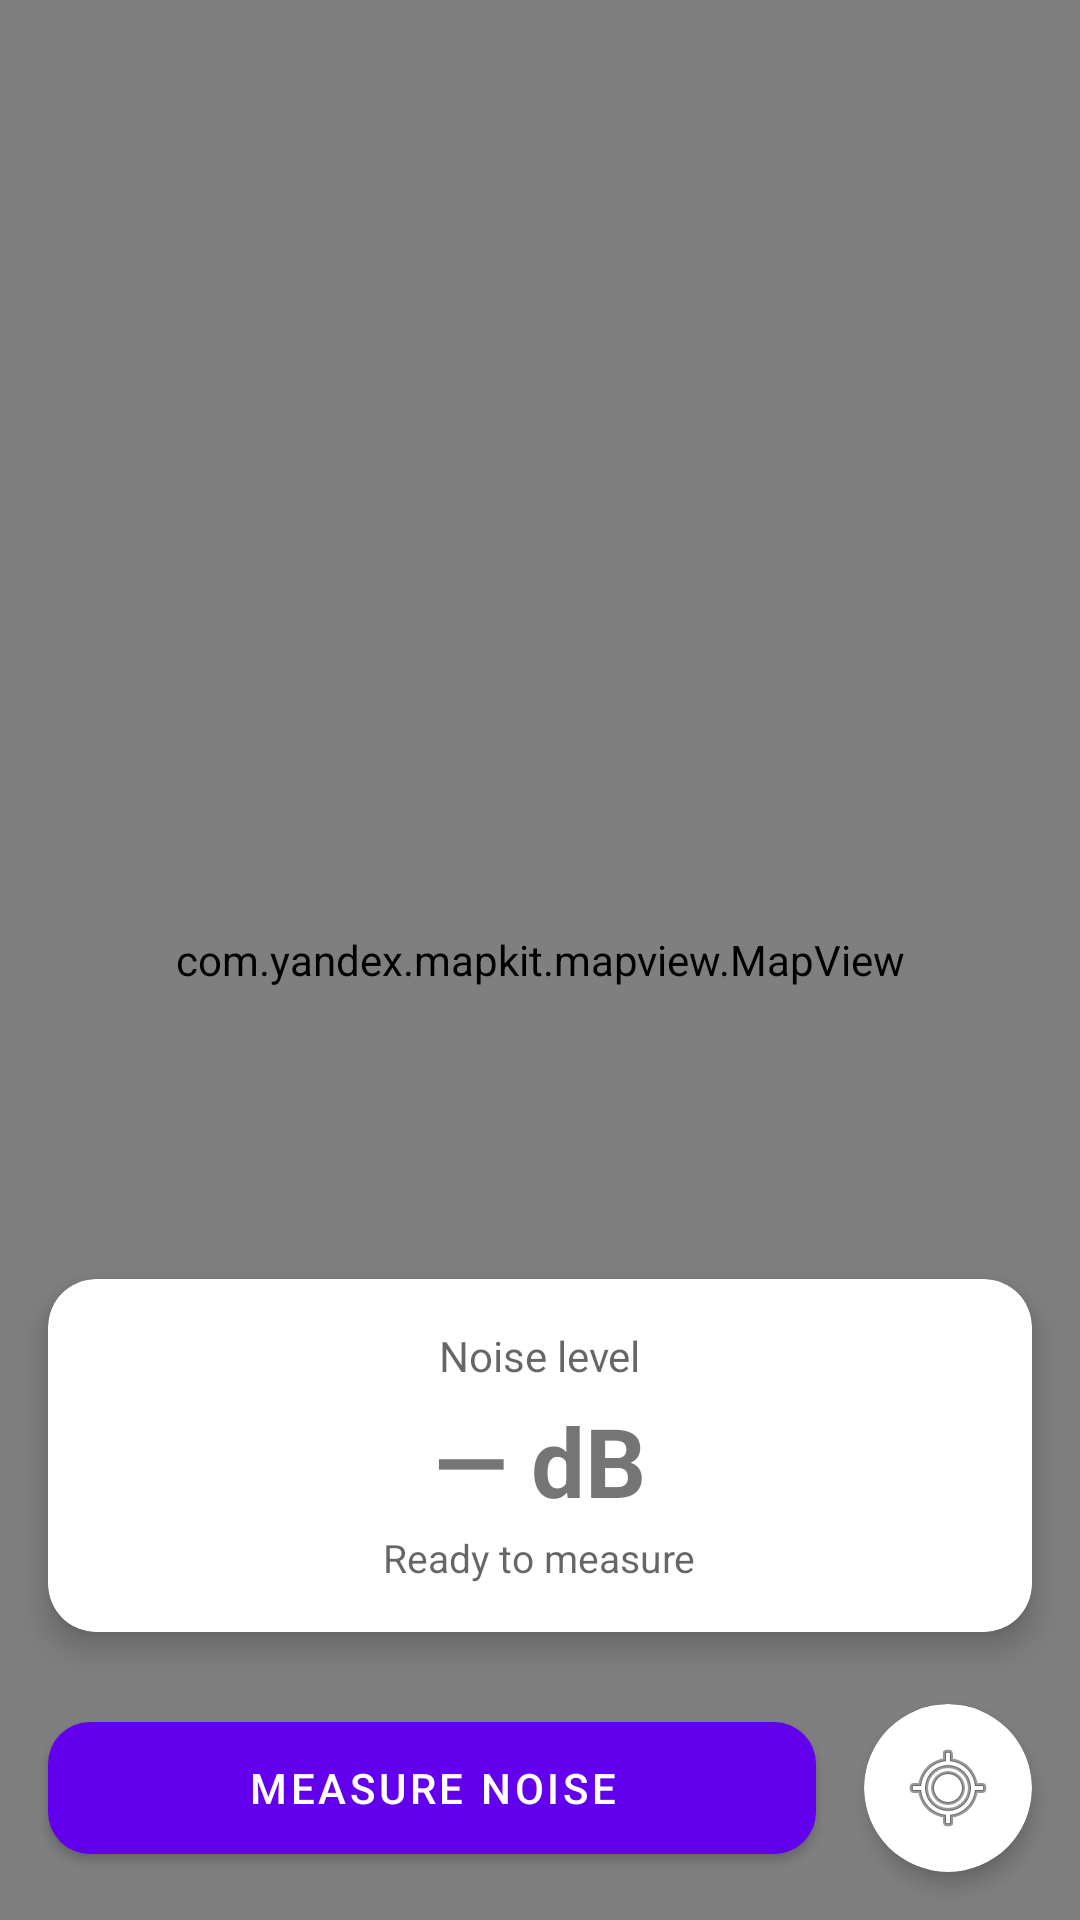

Where icons sit on this 1080px x 1920px app screen, as (x1, y1, x2, y2):
My location: (864, 1704, 1032, 1872)
